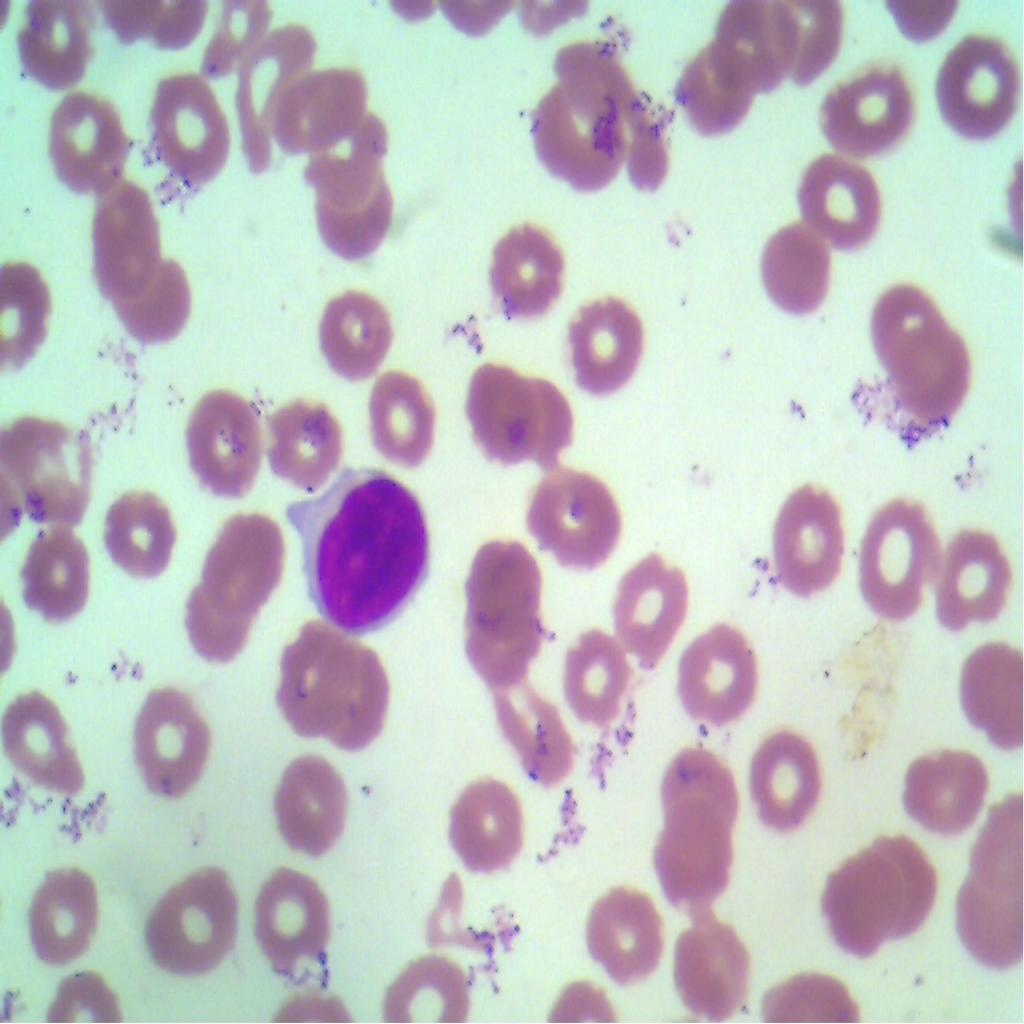Eritrosit: (243, 851, 348, 992), (138, 867, 248, 985), (928, 28, 1023, 150), (4, 682, 95, 808), (663, 18, 753, 145), (849, 489, 933, 624), (0, 408, 98, 522), (146, 58, 234, 184), (174, 382, 272, 492), (521, 465, 628, 565), (819, 56, 919, 161), (532, 84, 626, 194), (674, 908, 762, 1023), (674, 612, 759, 731), (560, 618, 646, 735), (128, 684, 215, 799), (98, 482, 188, 591), (38, 89, 132, 192), (315, 282, 409, 385), (609, 550, 691, 668), (8, 0, 104, 100), (932, 522, 1014, 639), (864, 824, 946, 941), (258, 749, 363, 840), (898, 738, 990, 841), (798, 145, 888, 249), (708, 0, 801, 100), (586, 879, 666, 994), (502, 687, 584, 799), (231, 28, 308, 147), (358, 367, 446, 470), (444, 778, 530, 882), (774, 484, 846, 608), (901, 324, 979, 438), (950, 859, 1024, 978), (26, 858, 106, 968), (818, 847, 894, 962), (15, 521, 96, 628), (86, 181, 160, 298), (748, 722, 823, 837), (566, 287, 644, 397), (263, 387, 346, 489), (455, 598, 543, 694), (323, 652, 401, 760), (111, 252, 195, 349), (483, 224, 562, 327), (463, 352, 531, 470), (458, 541, 546, 631), (762, 211, 838, 315), (658, 802, 732, 905), (958, 641, 1023, 758), (176, 568, 255, 664), (561, 40, 638, 138), (751, 0, 842, 82), (276, 64, 368, 145), (383, 950, 483, 1023), (502, 368, 575, 468), (313, 184, 401, 264), (303, 124, 393, 202), (280, 614, 346, 719), (655, 746, 735, 832), (202, 527, 288, 605), (868, 288, 946, 374), (959, 792, 1023, 888), (196, 0, 264, 75)
Limfoblast: (294, 465, 440, 639)
